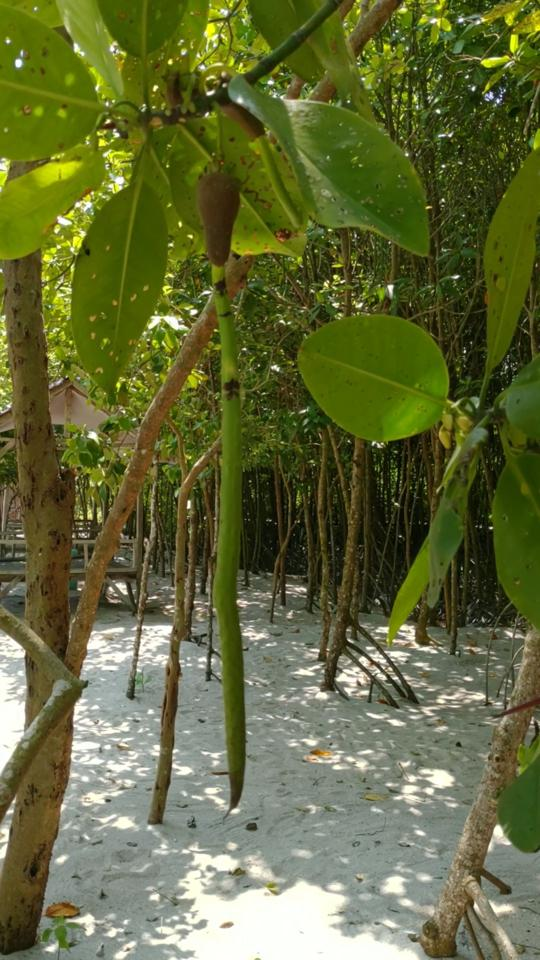mentah: (183, 121, 264, 834)
